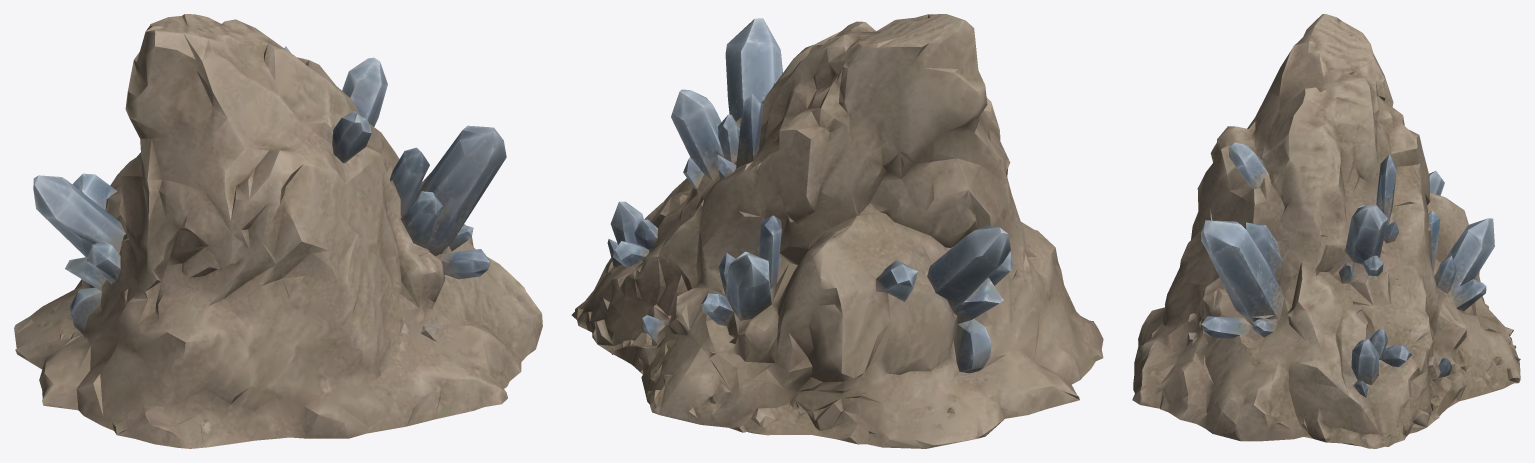
File: node.fuel_scrap.glb
The picture shows the model from 3 angles, left to right: view 1: azimuth 30°, elevation 25°; view 2: azimuth 150°, elevation 25°; view 3: azimuth 270°, elevation 25°; orthographic projection. The views are drawn at different scales.
Visible parts, largest first — view 1: body; view 2: body; view 3: body.
Part boxes in pixels (box(x1,y1,x2,y2)): body: box(14, 14, 542, 448); body: box(571, 14, 1103, 448); body: box(1132, 14, 1520, 448).
Size of the model in its own units: 0.9473 by 0.6799 by 0.8176.
Materials: 1 (1 with a texture image).
